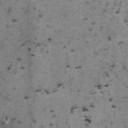oxide scale of temperature system: (0, 6, 128, 128)
